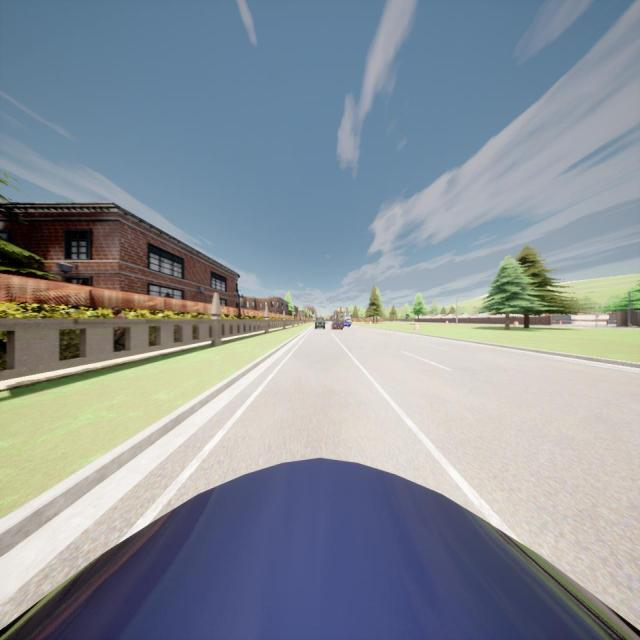Vehicle: (0, 455, 640, 640), (314, 316, 326, 329), (331, 320, 343, 331), (342, 316, 352, 324), (343, 320, 350, 328)
